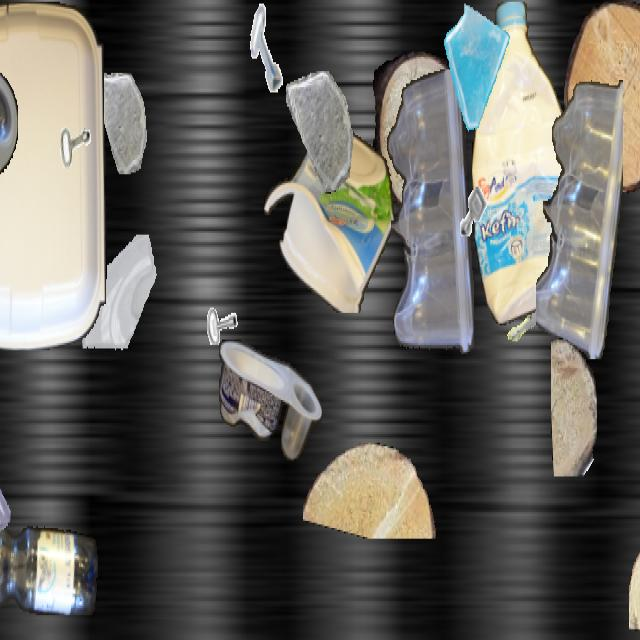glass: (80, 234, 162, 380), (440, 2, 514, 133), (286, 71, 354, 192), (92, 73, 148, 172), (0, 441, 10, 555)
metal: (41, 73, 101, 179), (490, 271, 548, 374), (242, 2, 294, 94), (197, 265, 241, 343), (452, 174, 494, 249)
plastic: (0, 2, 106, 350), (472, 2, 574, 325), (384, 69, 474, 361), (264, 124, 394, 313), (536, 73, 622, 357), (219, 340, 321, 460), (0, 519, 98, 615), (0, 64, 18, 217)
wood: (370, 52, 466, 212), (564, 2, 640, 194), (303, 442, 439, 538), (551, 338, 597, 476), (629, 532, 640, 631)
